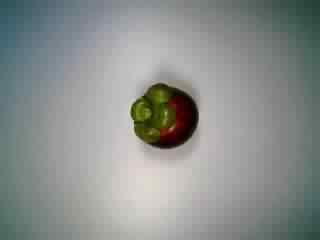mangosteen: (121, 78, 204, 153)
